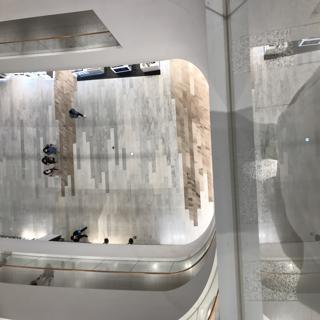person: (64, 102, 93, 125), (36, 165, 74, 182), (37, 149, 66, 168)
